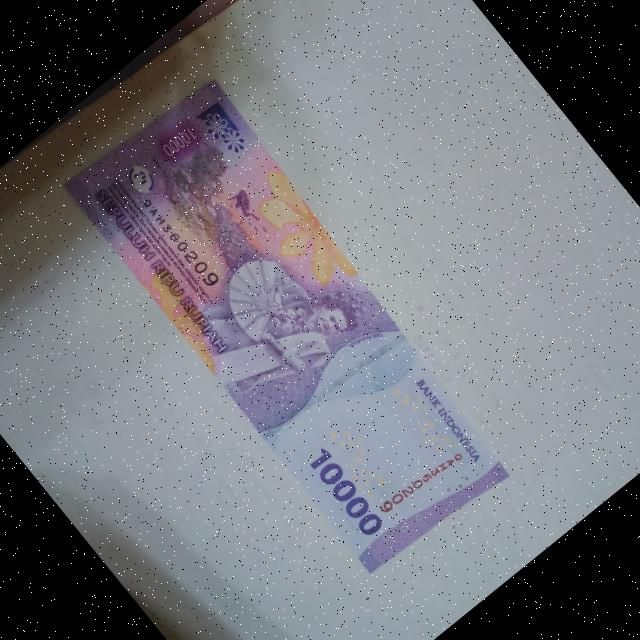10K: (42, 54, 544, 602)
